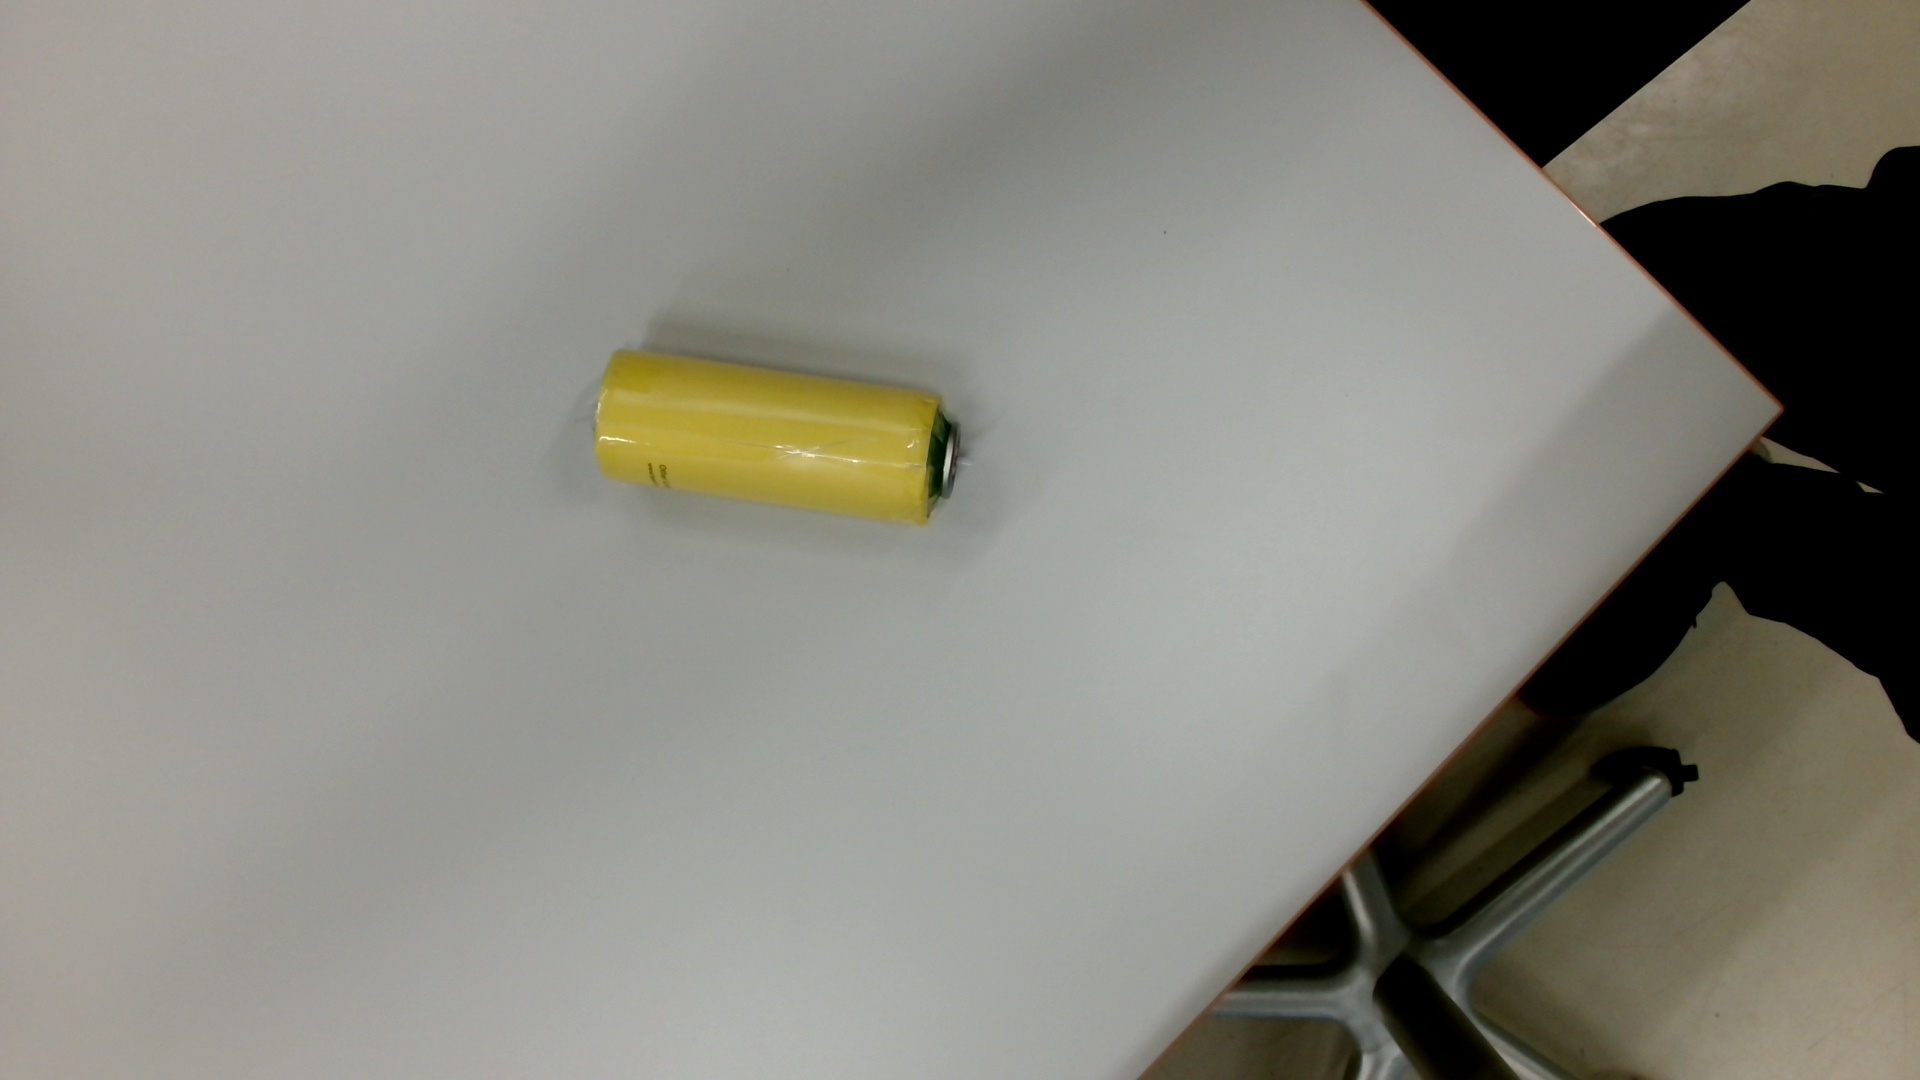Cylinder: (580, 336, 990, 544)
